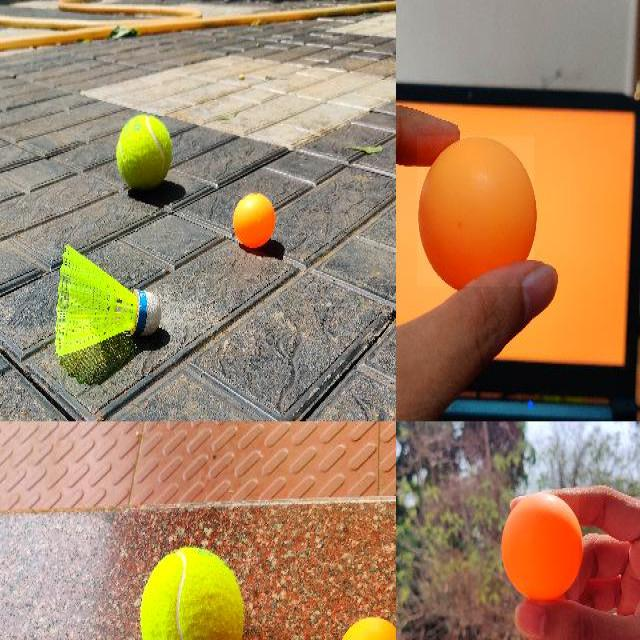ping-pong-ball: (417, 136, 535, 288), (500, 490, 580, 601), (233, 192, 273, 248), (338, 614, 395, 638)
